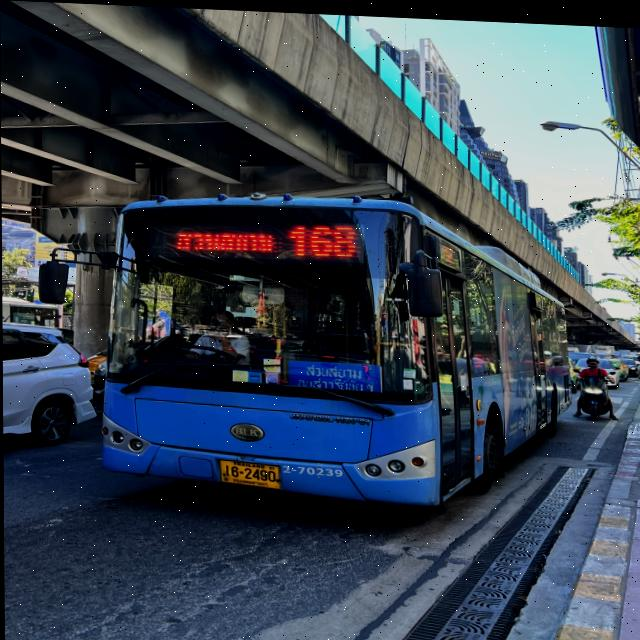BMTA-bus: (97, 185, 572, 511)
Bus-Line-Number: (284, 216, 366, 261)
Destination-Sign-Normal: (288, 359, 381, 389)
